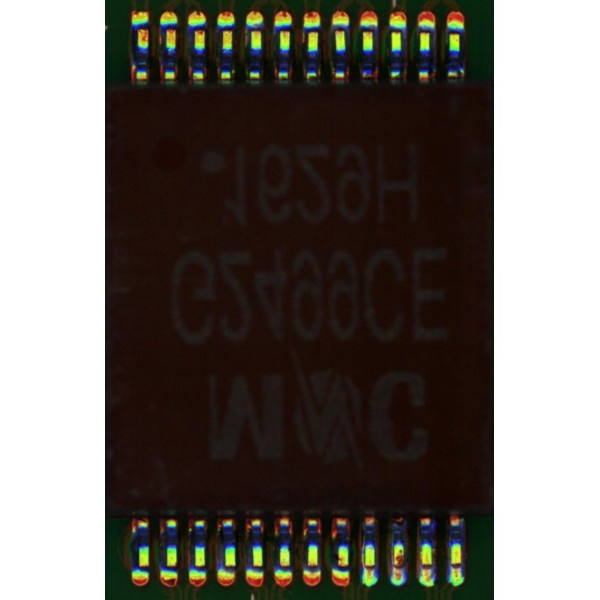Bad_podu: (422, 562, 432, 575), (366, 563, 375, 577), (393, 562, 404, 573), (451, 561, 461, 573)
